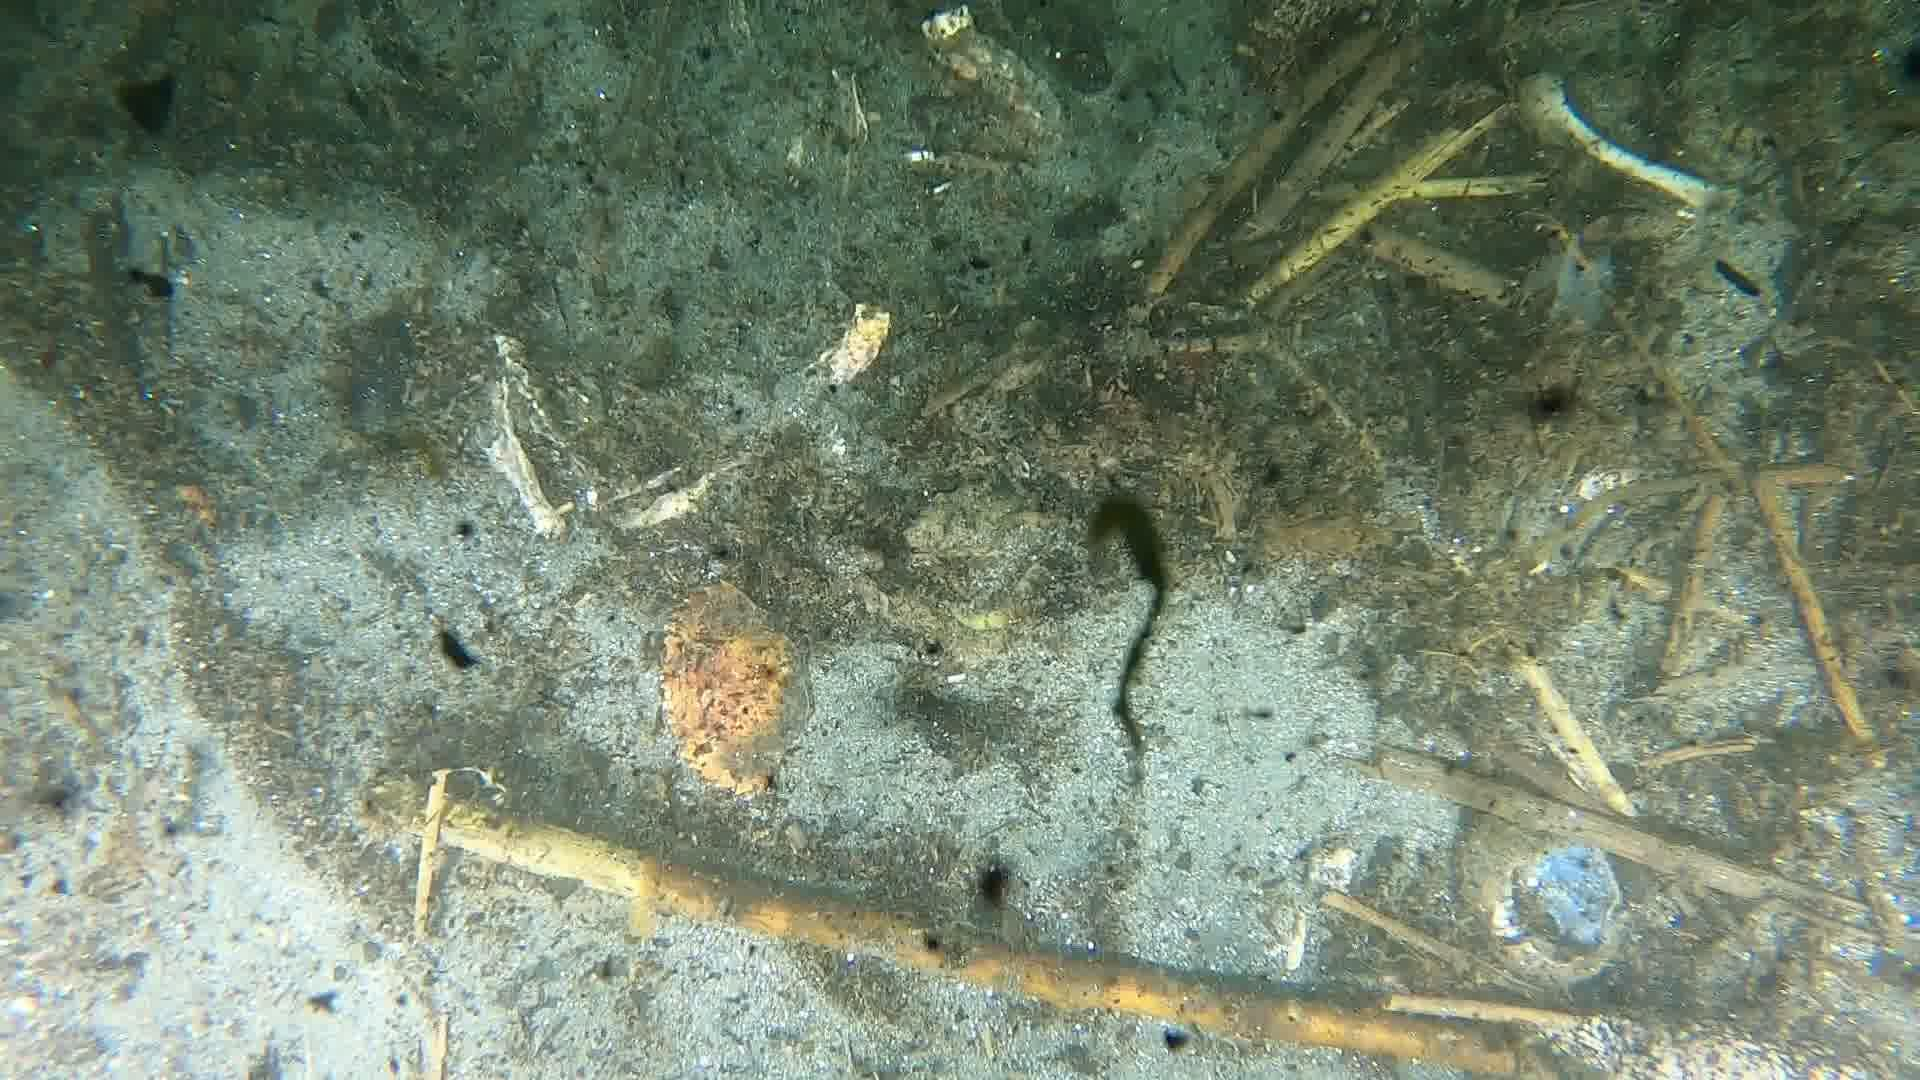wood: (347, 767, 1535, 1080)
